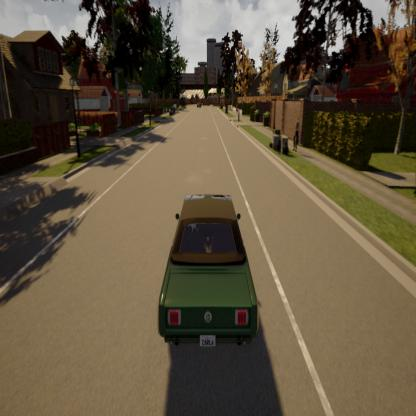Cars: (149, 170, 271, 382)
Pedestrian: (289, 115, 305, 158), (234, 100, 242, 122)
